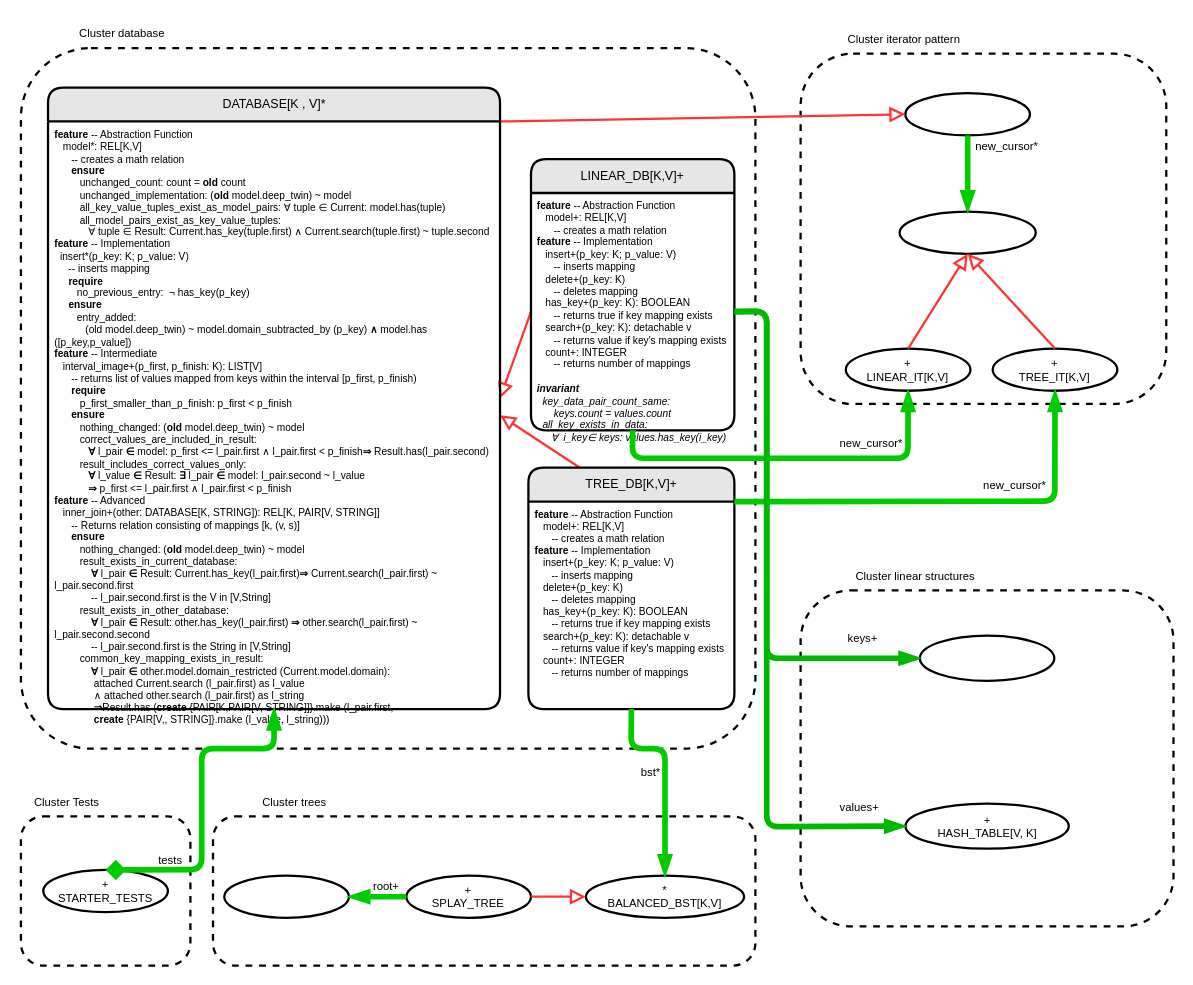
Some shapes in this 1193 by 985 pixel diagram are drawn without their labels. The centre of each missing label's shape, as x and y in pixels:
"* ITERABLE[G]" goes at (967,114).
"* ITERATION_CURSOR[G]" goes at (967,232).
"+ ARRAY[K]" goes at (986,657).
"+ TREE_NODE[K,V]" goes at (286,896).
